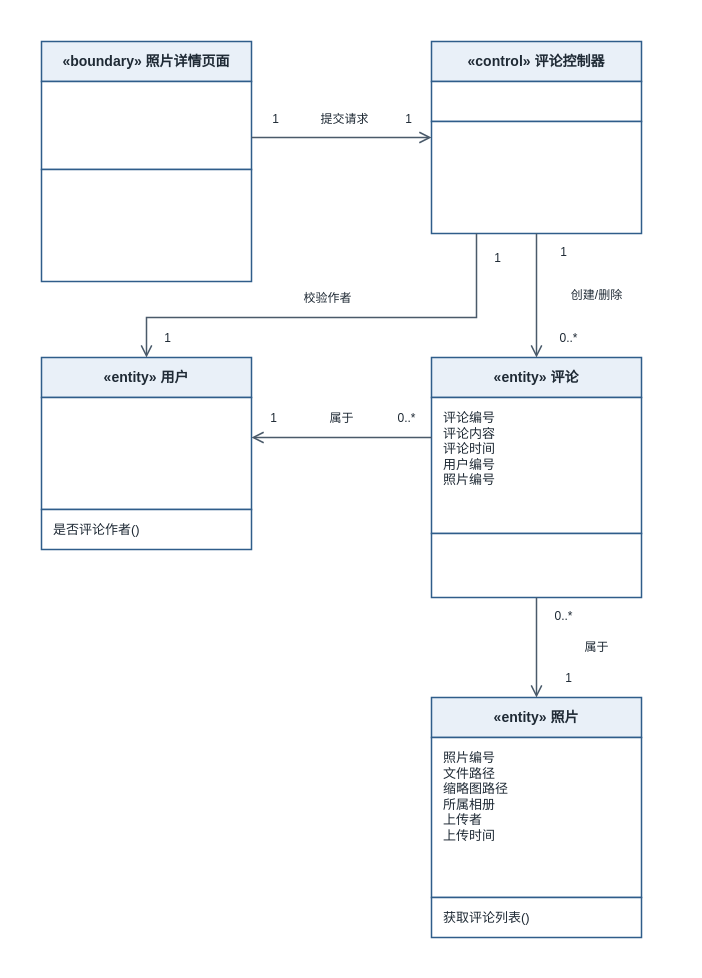
The diagram is 702 pixels wide and 978 high, and some of its shapes have lost their labels. The shapes that lost their labels are listed below. From the top down, each one's centre as x and y in pixels, then its label:
At point (146, 125): "照片信息 评论输入框 评论列表".
At point (536, 177): "校验评论内容() 发表评论() 校验删除权限() 删除评论()".
At point (146, 225): "读取评论内容() 显示评论列表() 确认删除() 提示错误()".
At point (146, 453): "用户名 密码 邮箱 角色".
At point (536, 565): "保存() 删除()".
